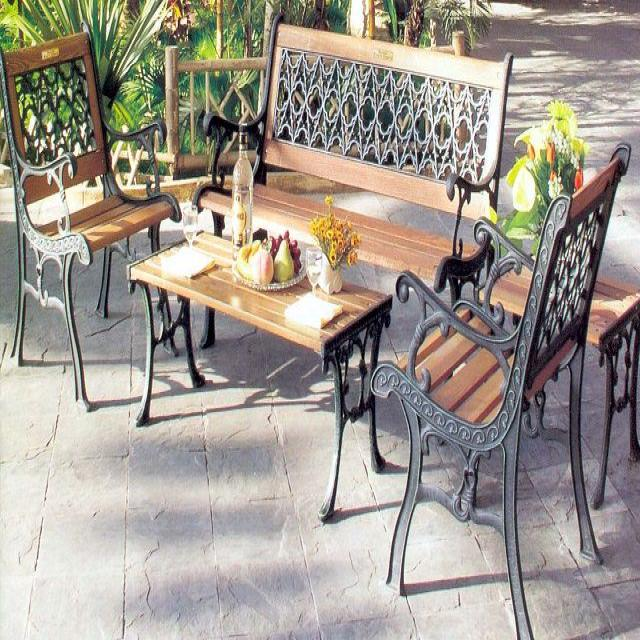chair: (215, 18, 533, 272), (409, 114, 621, 468), (0, 40, 181, 328)
table: (151, 216, 384, 382)
